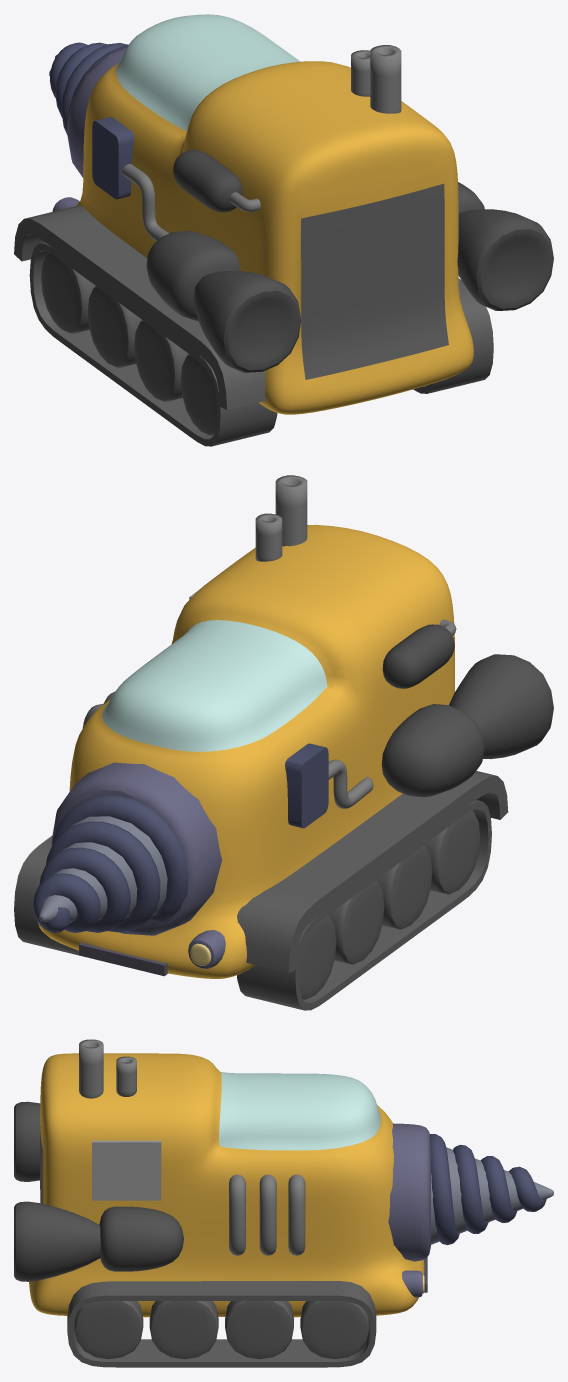
Rendered from temp_drill.fbx.
The picture shows the model from 3 angles, top to bottom: view 1: azimuth 30°, elevation 25°; view 2: azimuth 150°, elevation 25°; view 3: azimuth 270°, elevation 25°; orthographic projection. The views are drawn at different scales.
Visible parts, largest first — view 1: bus_body, bus_door, Cube.011, Cube.009, Cube.014, Cube.008, Cube.007, Cube.010, Cube.001, Spiral.001, bus_drill_body, BézierCurve; view 2: bus_body, Cube.014, Cube.011, Spiral.001, Cube.009, Cube.008, bus_drill_body, bus_drill, Cube.007, Cube.010, Cube.001, Cube.013 (+2 smaller); view 3: bus_body, Cube.009, Cube.011, Cube.008, Spiral.001, bus_drill_body, Cube.006, BézierCurve.001, Cube.007, bus_drill, bus_head_lights.
Part boxes in pixels (<box>): bus_body: <box>74,14,473,414</box>; bus_door: <box>301,183,448,379</box>; Cube.011: <box>146,182,553,372</box>; Cube.009: <box>41,252,216,436</box>; Cube.014: <box>14,205,266,410</box>; Cube.008: <box>29,242,493,446</box>; Cube.007: <box>351,45,401,113</box>; Cube.010: <box>173,150,242,212</box>; Cube.001: <box>92,117,134,199</box>; Spiral.001: <box>49,42,128,134</box>; bus_drill_body: <box>66,46,127,177</box>; BézierCurve: <box>122,164,169,241</box>; bus_body: <box>38,524,454,978</box>; Cube.014: <box>237,771,508,972</box>; Cube.011: <box>381,654,553,797</box>; Spiral.001: <box>33,795,188,932</box>; Cube.009: <box>299,810,480,999</box>; Cube.008: <box>14,800,491,1010</box>; bus_drill_body: <box>51,762,221,935</box>; bus_drill: <box>39,816,167,922</box>; Cube.007: <box>255,475,307,561</box>; Cube.010: <box>382,624,454,688</box>; Cube.001: <box>285,743,328,828</box>; Cube.013: <box>79,942,167,976</box>; bus_body: <box>29,1053,424,1317</box>; Cube.009: <box>74,1301,369,1359</box>; Cube.011: <box>14,1101,183,1281</box>; Cube.008: <box>67,1281,376,1367</box>; Spiral.001: <box>430,1134,546,1245</box>; bus_drill_body: <box>388,1123,430,1261</box>; Cube.006: <box>92,1140,161,1200</box>; BézierCurve.001: <box>229,1174,305,1255</box>; Cube.007: <box>79,1039,136,1098</box>; bus_drill: <box>431,1147,553,1244</box>; bus_head_lights: <box>402,1270,422,1297</box>.
Bounding box in the file's own units: 1408 × 1418 × 2427.
